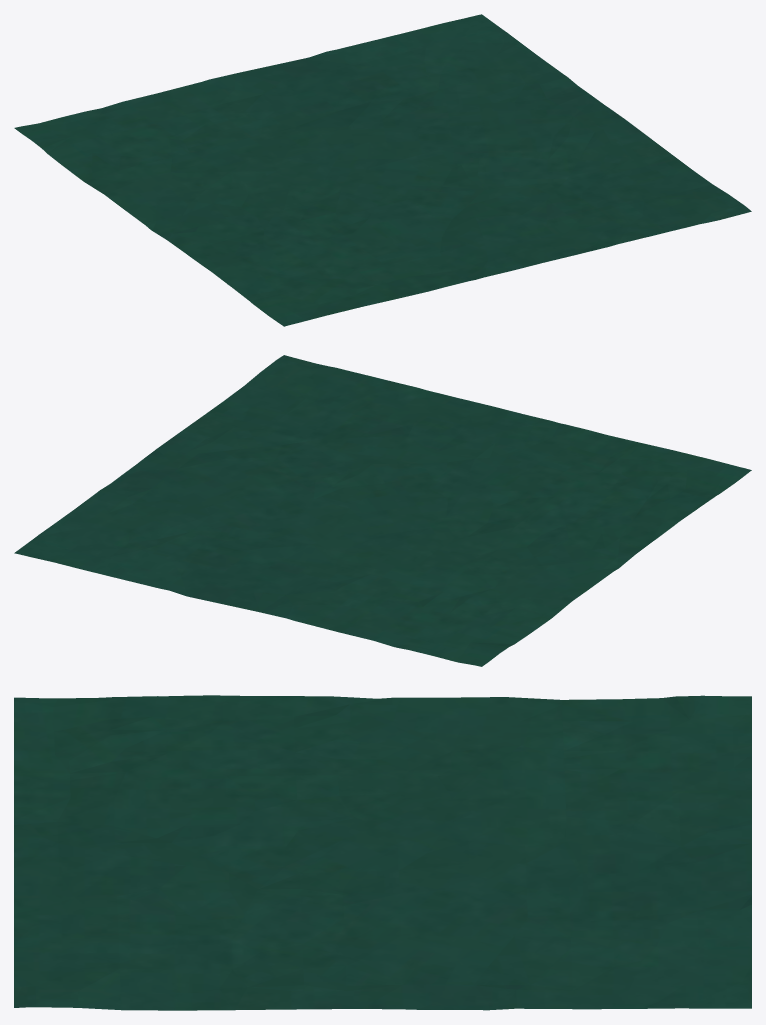
The picture shows the model from 3 angles, top to bottom: view 1: azimuth 30°, elevation 25°; view 2: azimuth 150°, elevation 25°; view 3: azimuth 270°, elevation 25°; orthographic projection. The views are drawn at different scales.
Bounding box in the file's own units: 52.22 × 0.3778 × 52.22.
Materials: 2 (2 with a texture image).
